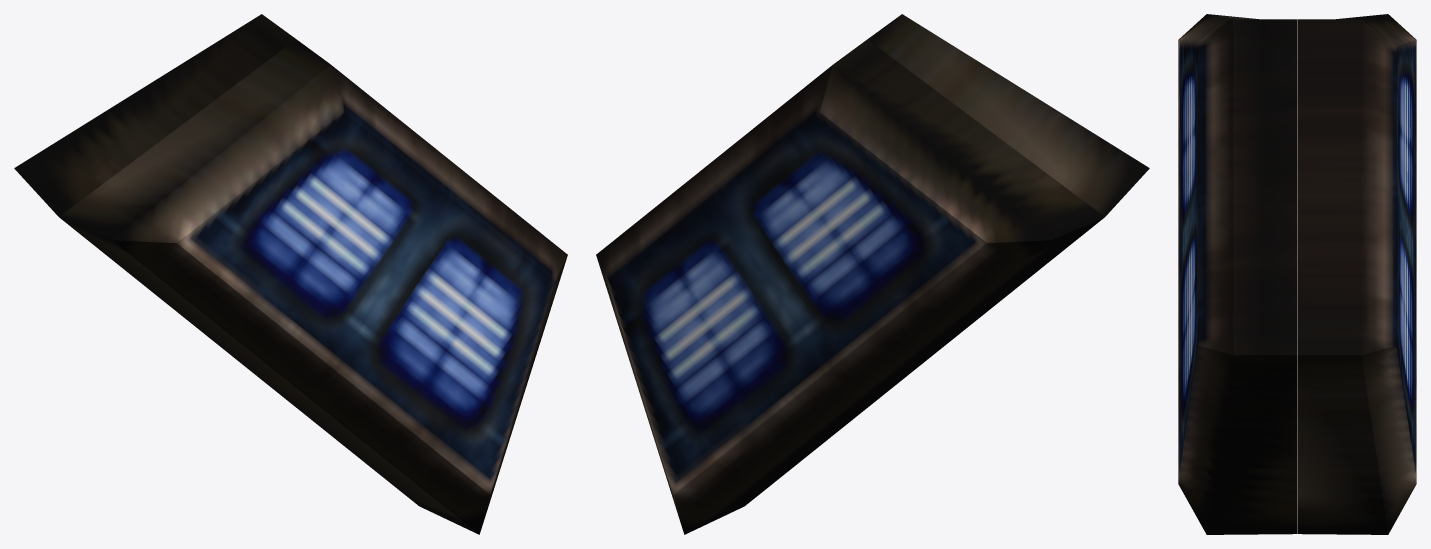
File: datan_common_ec1a184a.obj
3 views of the same model, side by side, from view 1: azimuth 30°, elevation 25°; view 2: azimuth 150°, elevation 25°; view 3: azimuth 270°, elevation 25° (orthographic). The views are drawn at different scales.
Parts seen in each view (by area): view 1: datan_common_ec1a184a; view 2: datan_common_ec1a184a; view 3: datan_common_ec1a184a.
Boxes of the visible parts, x1=… form: datan_common_ec1a184a: x1=14, y1=14, x2=567, y2=534; datan_common_ec1a184a: x1=596, y1=14, x2=1149, y2=534; datan_common_ec1a184a: x1=1178, y1=14, x2=1416, y2=534.
Size of the model in its own units: 8.02 by 8.03 by 3.77.
Materials: 1 (1 with a texture image).
